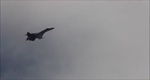maybay_muctieu: (24, 24, 55, 44)
